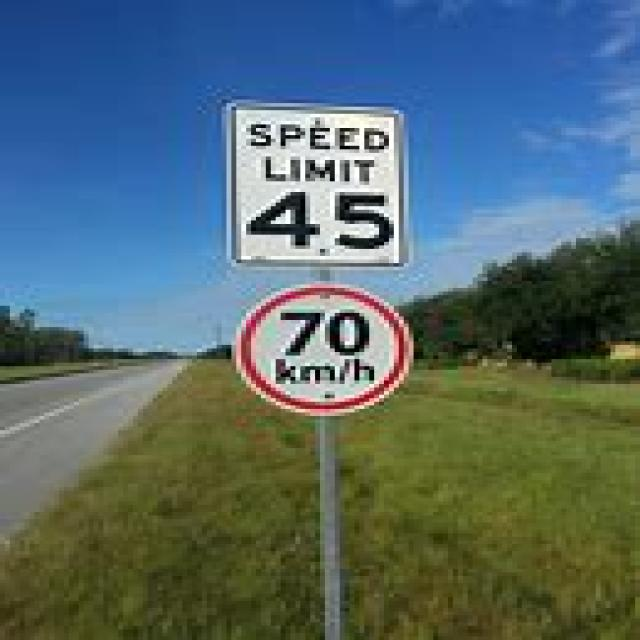speedLimit45: (226, 105, 408, 269)
